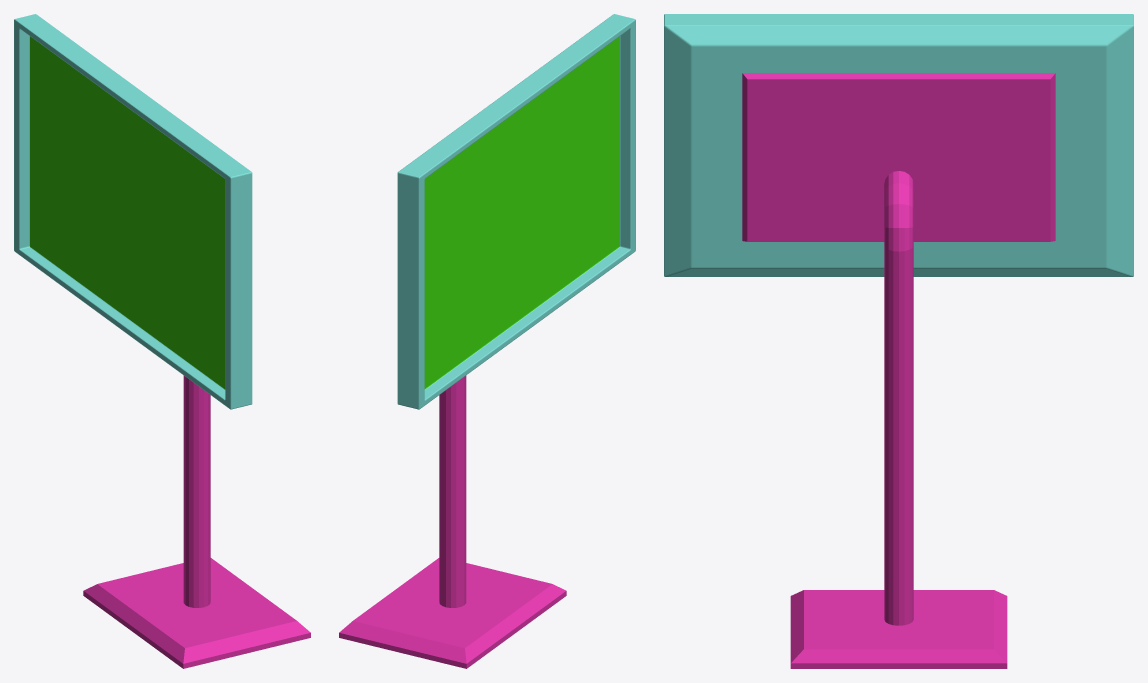
Rendered from SM_RH_Screen_02.fbx.
3 renders of one model, left to right at view 1: azimuth 30°, elevation 25°; view 2: azimuth 150°, elevation 25°; view 3: azimuth 270°, elevation 25°, orthographic. The views are drawn at different scales.
Visible parts, largest first — view 1: Plane.006; view 2: Plane.006; view 3: Plane.006.
Part boxes in pixels (bbox=[...]): Plane.006: bbox=[14, 14, 310, 668]; Plane.006: bbox=[339, 14, 635, 668]; Plane.006: bbox=[664, 14, 1133, 668].
Bounding box in the file's own units: 34.94 × 129 × 94.53.
